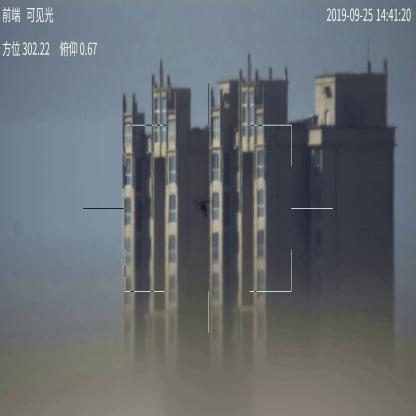uav: (194, 196, 214, 220)
